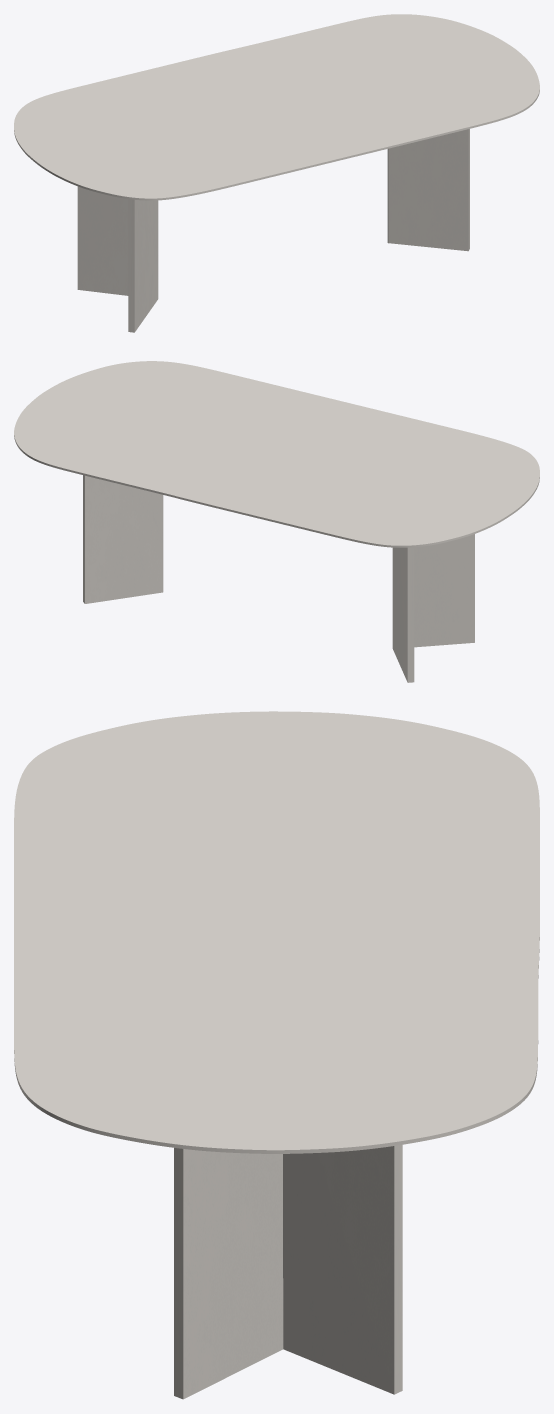
The model's file is purewhite_oval_facet_valleyv.glb.
3 views of the same model, one above another, from view 1: azimuth 30°, elevation 25°; view 2: azimuth 150°, elevation 25°; view 3: azimuth 270°, elevation 25° (orthographic). The views are drawn at different scales.
Visible parts, largest first — view 1: facet_oval, valleyv; view 2: facet_oval, valleyv; view 3: facet_oval, valleyv.
Part boxes in pixels (x1,y1,x2,y2): facet_oval: (14,14,539,200); valleyv: (77,129,469,332); facet_oval: (14,361,539,547); valleyv: (83,475,474,682); facet_oval: (14,711,539,1153); valleyv: (174,1144,402,1399).
Size of the model in its own units: 7.5 by 2.5 by 3.8.
Materials: 1 (1 with a texture image).
